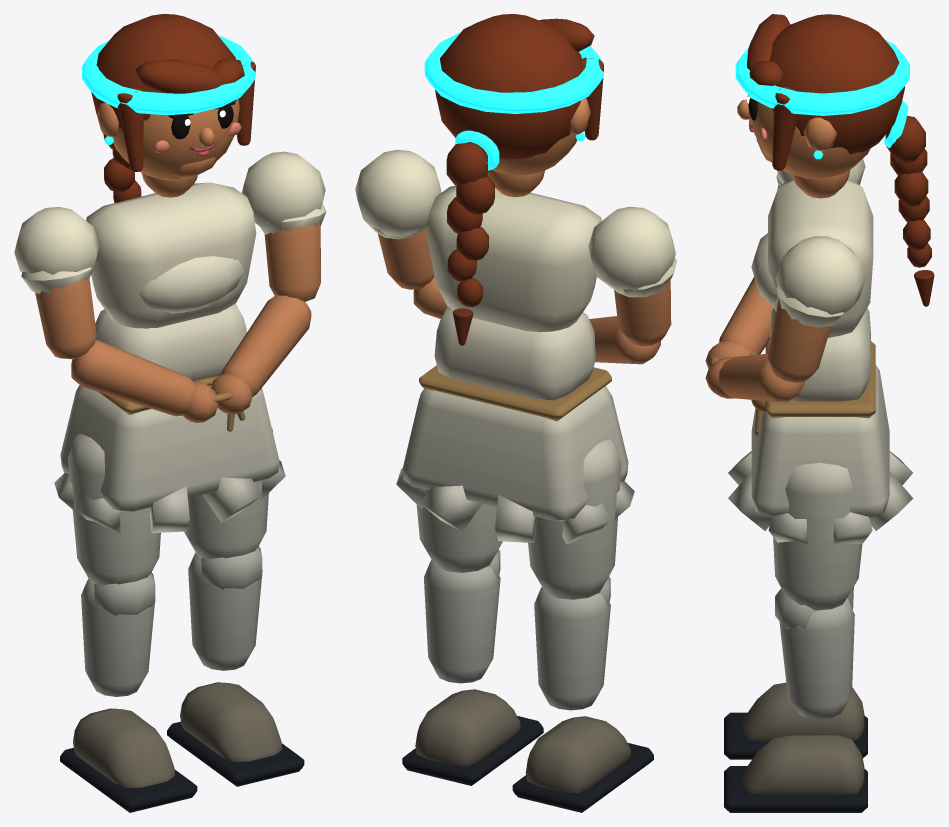
Rendered from captiveWoman.glb.
3 views of the same model, side by side, from view 1: azimuth 30°, elevation 25°; view 2: azimuth 150°, elevation 25°; view 3: azimuth 270°, elevation 25° (orthographic). The views are drawn at different scales.
Visible parts, largest first — view 1: Waist, Neck, Pelvis, Knee, Knee.001, Shoulder, Shoulder.001, Thigh, Forearm, Forearm.001, Thigh.001; view 2: Neck, Pelvis, Waist, Knee.001, Knee, Shoulder, Shoulder.001, Thigh, Thigh.001, Forearm, Forearm.001; view 3: Neck, Pelvis, Knee.001, Waist, Shoulder.001, Thigh.001, Knee, Forearm.001, Forearm, Shoulder.
Part boxes in pixels (x1,y1,x2,y2): Waist: [86, 182, 256, 380]; Neck: [82, 14, 255, 202]; Pelvis: [54, 385, 285, 534]; Knee: [60, 572, 197, 812]; Knee.001: [167, 546, 304, 786]; Shoulder: [14, 207, 99, 359]; Shoulder.001: [242, 151, 326, 301]; Thigh: [68, 434, 160, 584]; Forearm: [71, 339, 217, 422]; Forearm.001: [193, 295, 311, 414]; Thigh.001: [184, 427, 272, 558]; Neck: [424, 14, 603, 345]; Pelvis: [396, 365, 634, 544]; Waist: [426, 185, 601, 400]; Knee.001: [402, 549, 543, 785]; Knee: [512, 576, 653, 812]; Shoulder: [588, 206, 676, 346]; Shoulder.001: [355, 150, 441, 289]; Thigh: [528, 439, 621, 599]; Thigh.001: [416, 490, 502, 572]; Forearm: [589, 316, 660, 364]; Forearm.001: [413, 277, 447, 318]; Neck: [735, 14, 934, 306]; Pelvis: [728, 341, 913, 544]; Knee.001: [724, 588, 867, 812]; Waist: [751, 180, 873, 401]; Shoulder.001: [768, 236, 865, 382]; Thigh.001: [773, 463, 862, 610]; Knee: [724, 587, 867, 759]; Forearm.001: [705, 351, 804, 402]; Forearm: [705, 277, 773, 368]; Shoulder: [776, 159, 865, 188].
Bounding box in the file's own units: 0.7781 × 1.84 × 0.5092.
12 materials, 9 textured.
